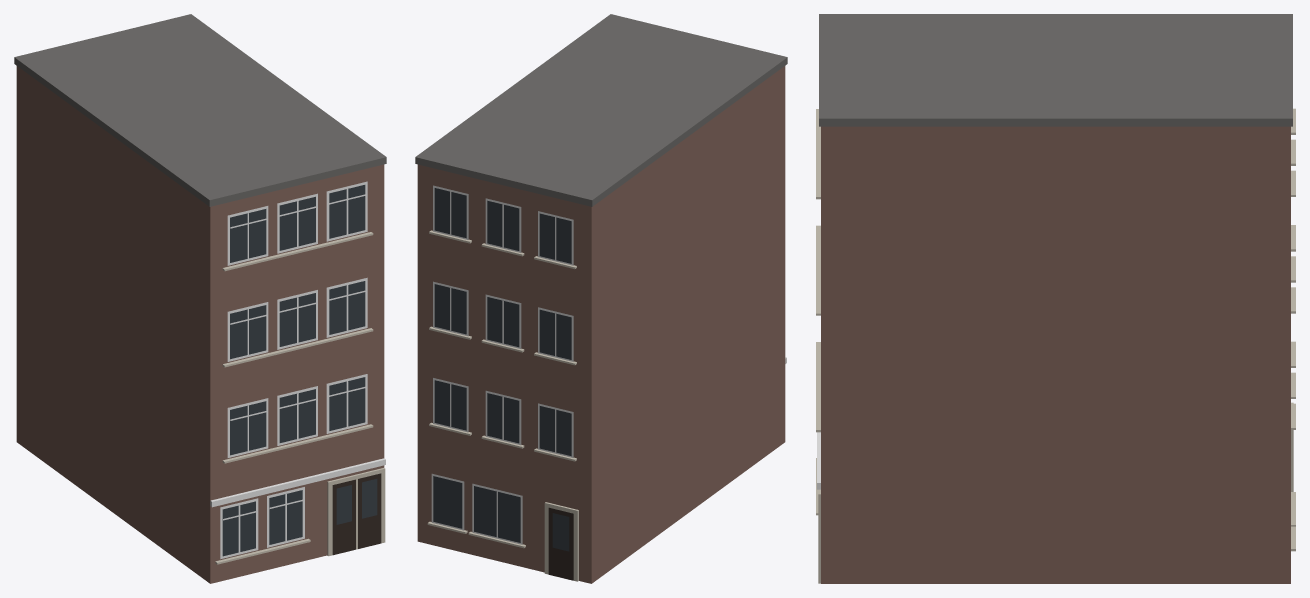
File: we-or-three__franklin__4__flat__long__solid__mirror.glb
3 renders of one model, left to right at view 1: azimuth 30°, elevation 25°; view 2: azimuth 150°, elevation 25°; view 3: azimuth 270°, elevation 25°, orthographic. The views are drawn at different scales.
Visible parts, largest first — view 1: we-or-three__franklin__4__flat__long__solid__mirror; view 2: we-or-three__franklin__4__flat__long__solid__mirror; view 3: we-or-three__franklin__4__flat__long__solid__mirror.
Part boxes in pixels (left/top/right/bottom): we-or-three__franklin__4__flat__long__solid__mirror: left=14, top=14, right=386, bottom=583; we-or-three__franklin__4__flat__long__solid__mirror: left=415, top=14, right=787, bottom=583; we-or-three__franklin__4__flat__long__solid__mirror: left=816, top=14, right=1295, bottom=583.
Bounding box in the file's own units: 6.07 × 12.6 × 11.75.
